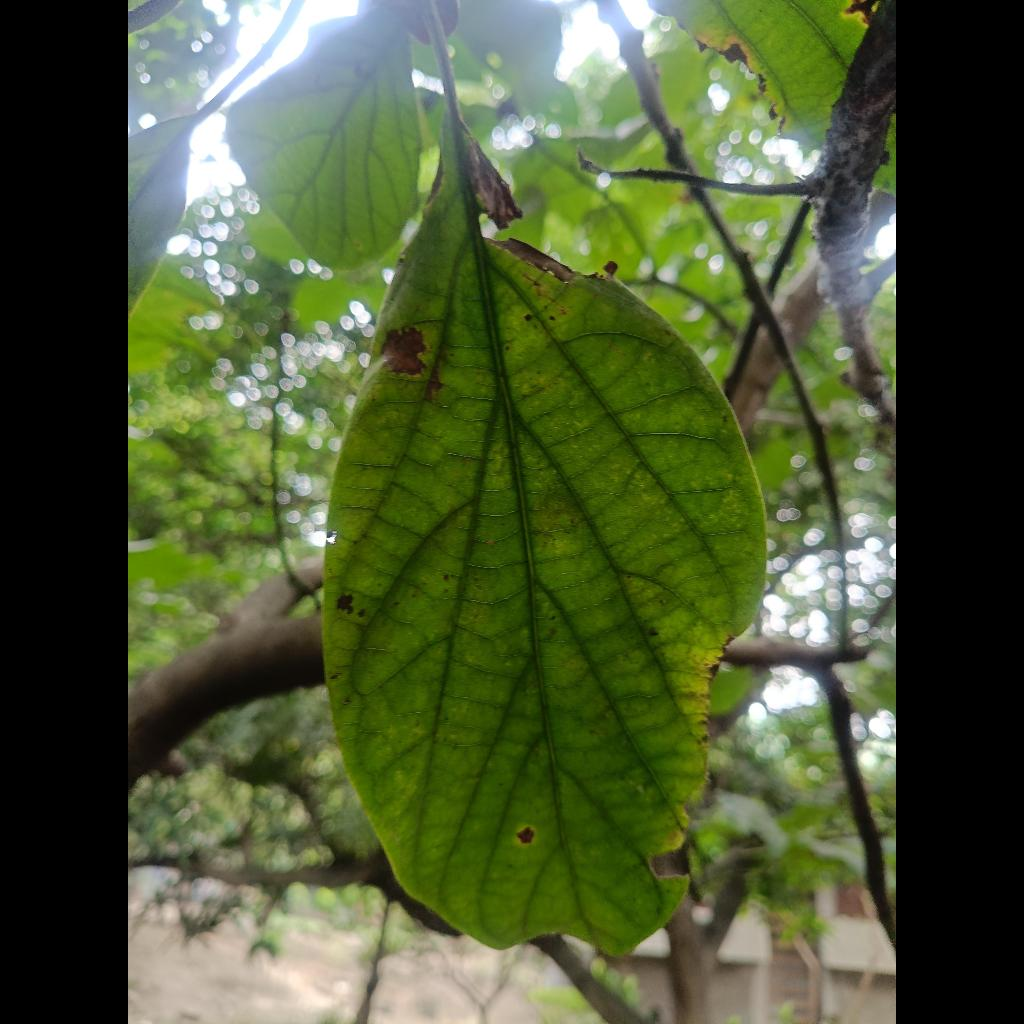antracnosis_hoja: (323, 99, 765, 954)
